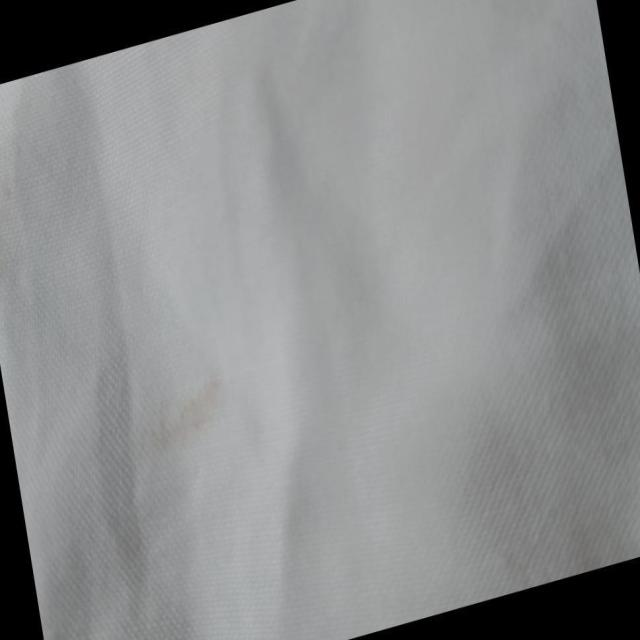stain: (134, 354, 240, 457)
